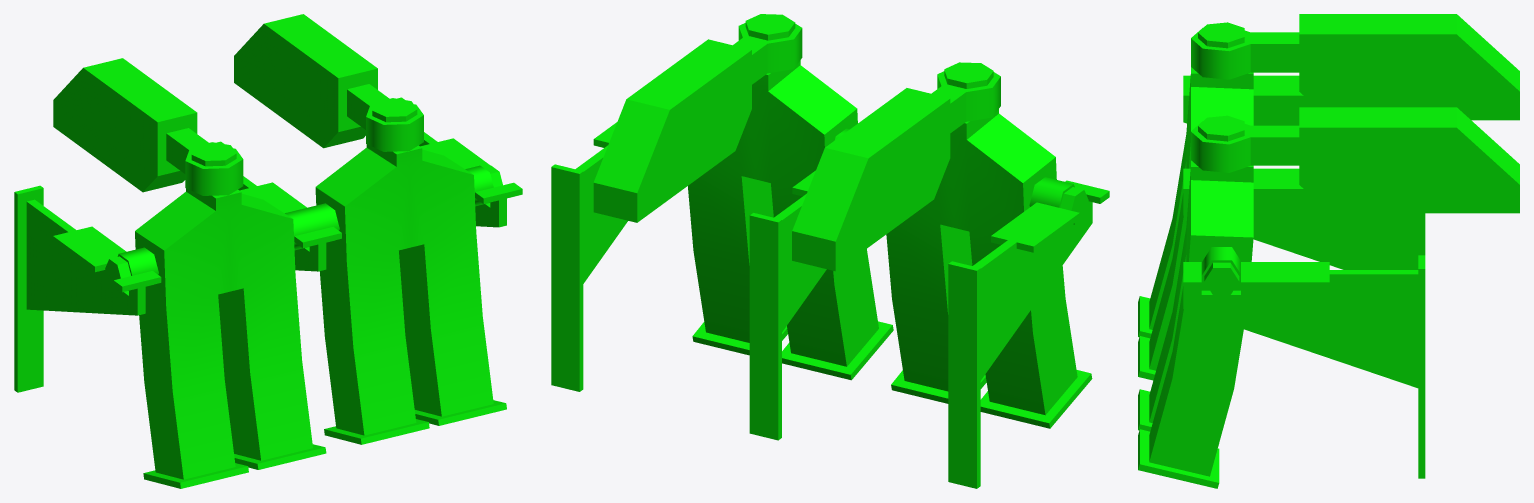
The model's file is Casting_Mold.fbx.
3 renders of one model, left to right at view 1: azimuth 30°, elevation 25°; view 2: azimuth 150°, elevation 25°; view 3: azimuth 270°, elevation 25°, orthographic. The views are drawn at different scales.
Parts seen in each view (by area): view 1: Casting_Mold_LOD0; view 2: Casting_Mold_LOD0; view 3: Casting_Mold_LOD0.
Part boxes in pixels (x1,y1,x2,y2): Casting_Mold_LOD0: (14,14,522,488); Casting_Mold_LOD0: (551,14,1109,488); Casting_Mold_LOD0: (1138,14,1519,488).
Size of what is drawn, in the model's own units: 388 by 293 by 303.
